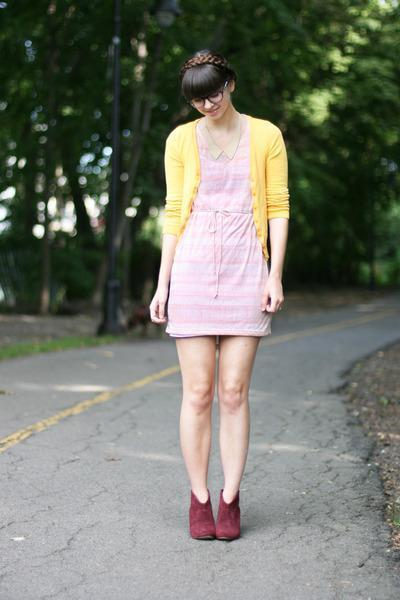dress: (166, 138, 269, 336)
jacket: (157, 114, 289, 275)
shoe: (189, 492, 243, 542)
